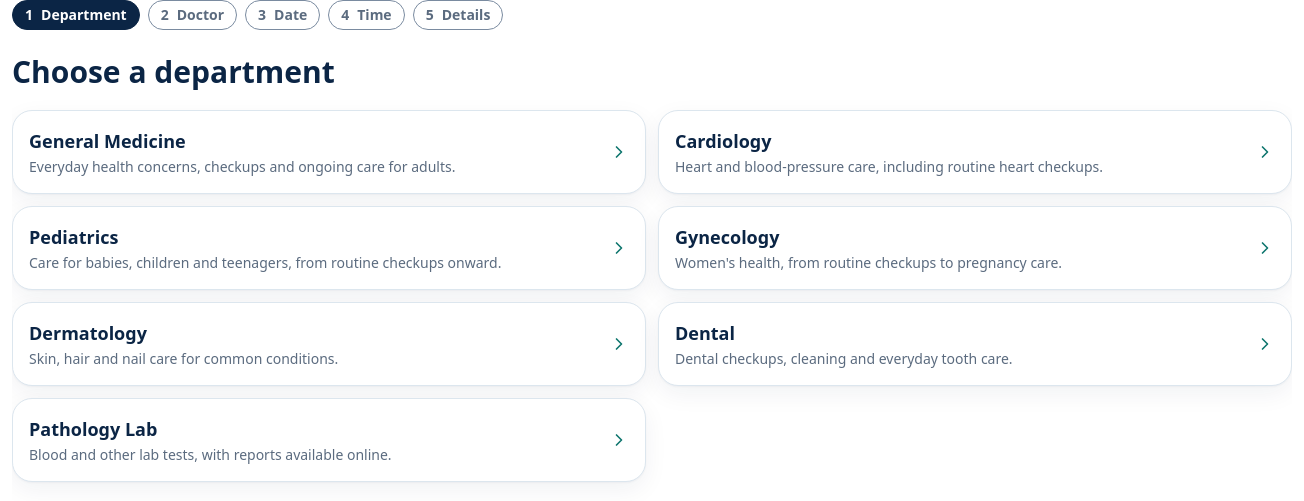
it: BookingFlow: edge cases › shows the same message for a department with no active doctors, rather than hiding it
Click the button "Cardiology" at (723, 141), box [658, 110, 1292, 194]
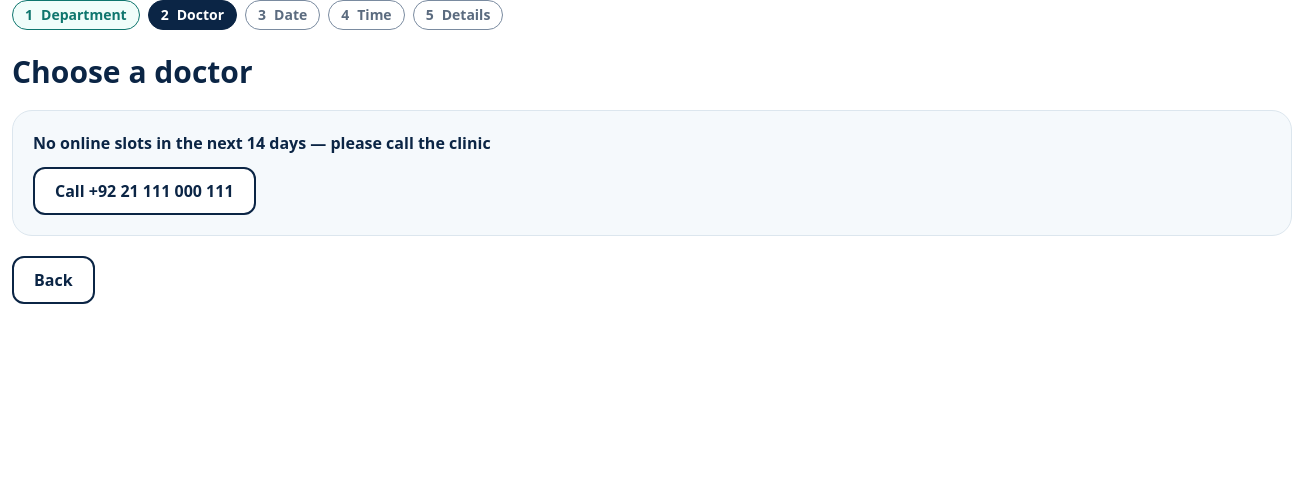
Expected: the text "No online slots in the next 14 days — please call the clinic" is shown, [33, 131, 491, 155]
